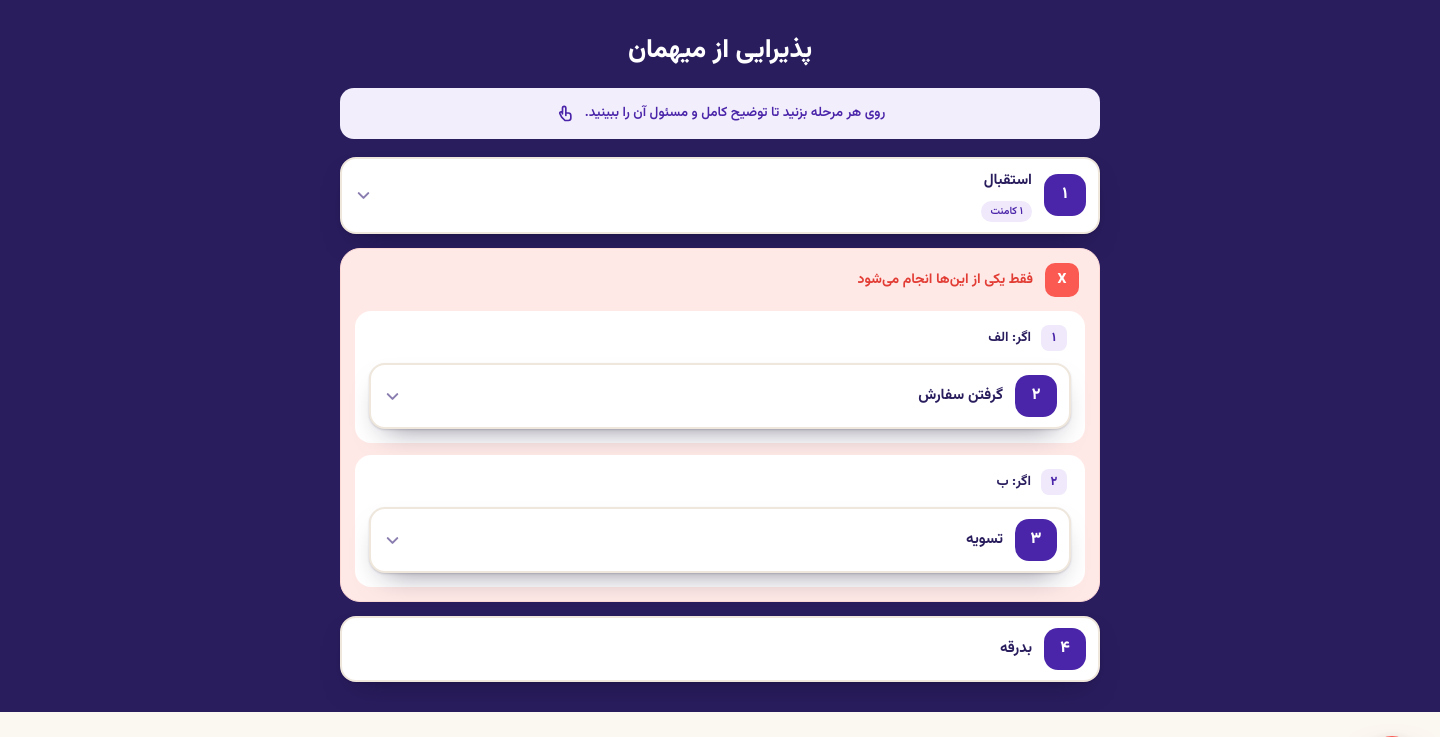
Scenario: Steps — comments on a step › an Editor sees the chip and the button (2026-09-29 addendum, decision A)
Check: the text "۱ کامنت" is shown, box [982,200,1032,222]
What coordinates should you click on to do the following:
click the text "استقبال"
I would click on:
 (1008, 180)
Its box is [984,168,1032,192].
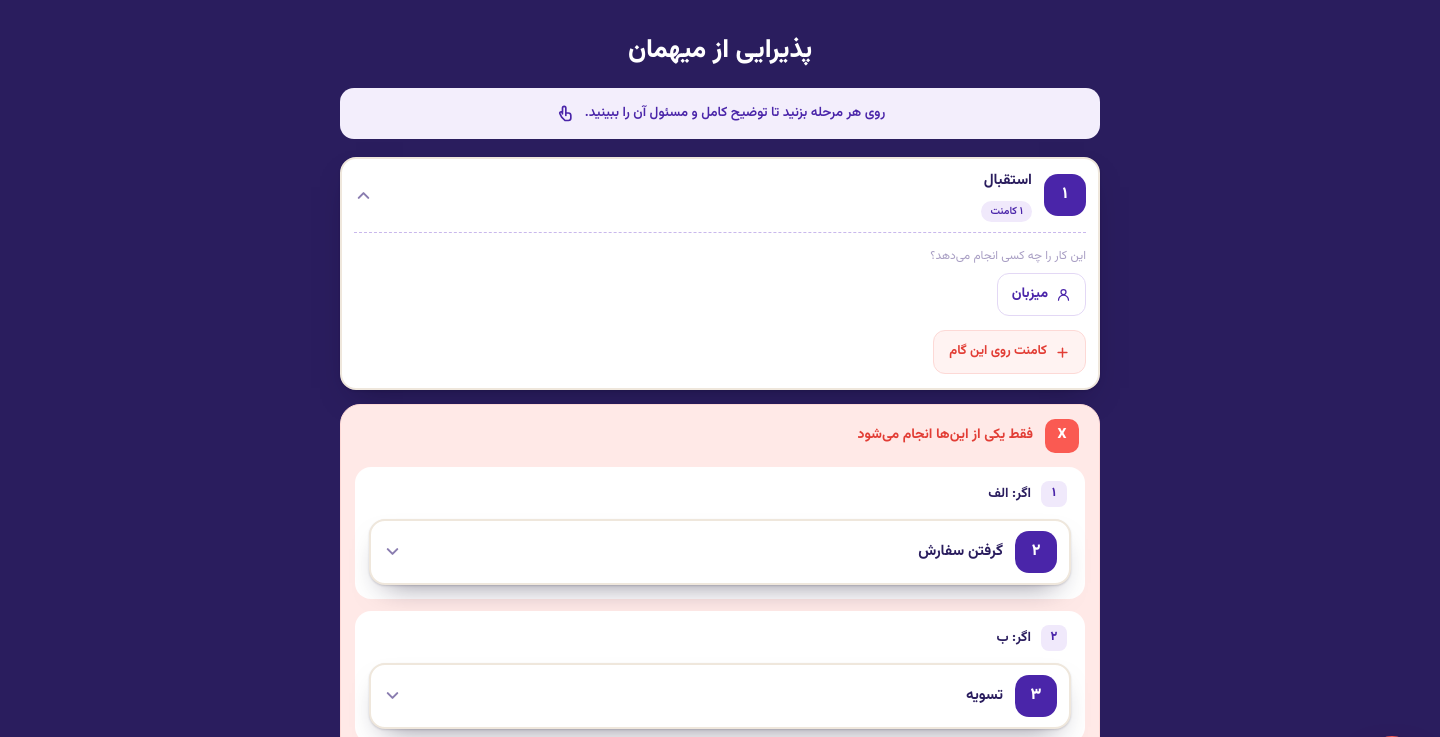
Check: the button "میزبان" is shown, box [997,273,1086,316]
Check: the button "کامنت روی این گام" is shown, box [933,330,1086,374]
